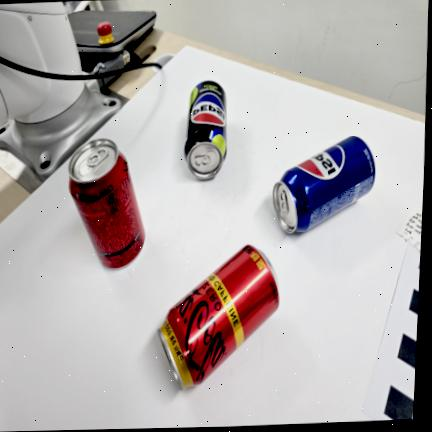can_coke_decaf: (157, 244, 279, 390)
can_coke_zero: (68, 139, 144, 268)
can_pepsi: (272, 135, 375, 233)
can_pepsi_zero: (184, 80, 226, 178)
